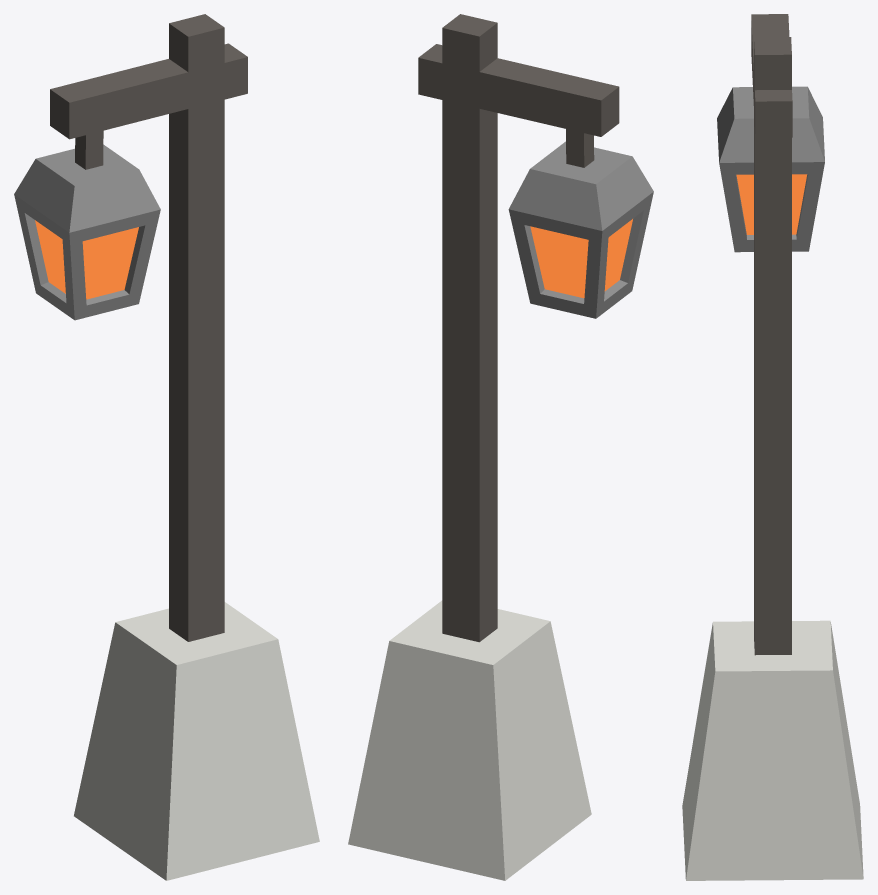
Rendered from polelamp.glb.
3 renders of one model, left to right at view 1: azimuth 30°, elevation 25°; view 2: azimuth 150°, elevation 25°; view 3: azimuth 270°, elevation 25°, orthographic.
Visible parts, largest first — view 1: polelamp; view 2: polelamp; view 3: polelamp.
Boxes of the visible parts, x1,y1,x2,y2 form: polelamp: [14, 14, 319, 880]; polelamp: [348, 14, 653, 880]; polelamp: [682, 14, 863, 880].
Size of the model in its own units: 0.4305 by 1.4 by 0.2881.
